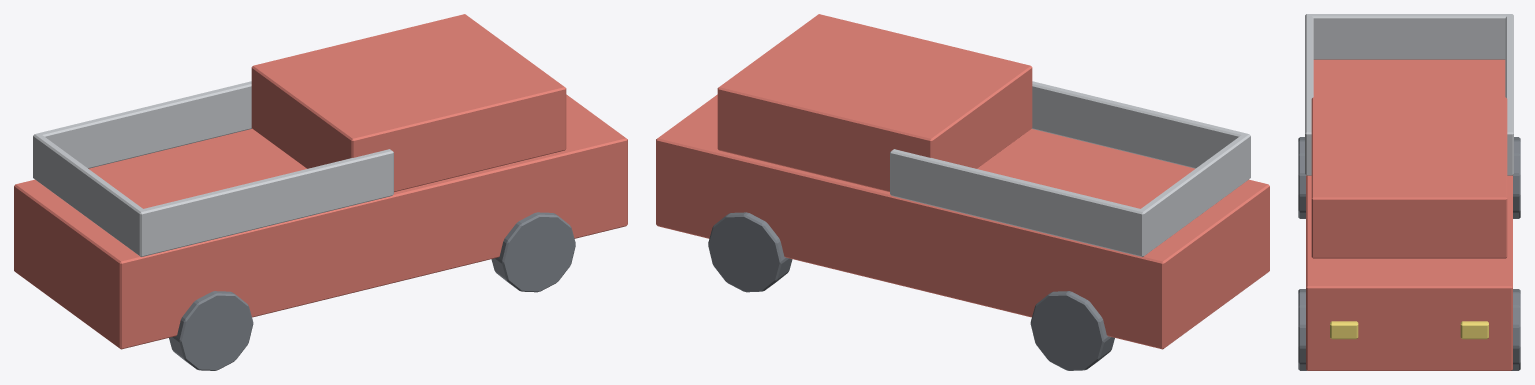
The picture shows the model from 3 angles, left to right: view 1: azimuth 30°, elevation 25°; view 2: azimuth 150°, elevation 25°; view 3: azimuth 270°, elevation 25°; orthographic projection. The views are drawn at different scales.
Visible parts, largest first — view 1: 车身.007, 驾驶室.004, 货斗栏, 车轮.013; view 2: 车身.007, 驾驶室.004, 货斗栏, 车轮.013; view 3: 驾驶室.004, 车身.007, 货斗栏, 车轮.013, 车灯.011.
Boxes of the visible parts, x1,y1,x2,y2 form: 车身.007: (14,94,627,349); 驾驶室.004: (251,14,566,191); 货斗栏: (33,81,393,256); 车轮.013: (169,212,575,370); 车身.007: (656,94,1269,349); 驾驶室.004: (717,14,1032,191); 货斗栏: (890,81,1250,256); 车轮.013: (708,212,1114,370); 驾驶室.004: (1311,97,1507,258); 车身.007: (1306,59,1512,370); 货斗栏: (1305,14,1513,175); 车轮.013: (1298,137,1520,370); 车灯.011: (1330,321,1488,339).
Bounding box in the file's own units: 526 × 188 × 204.
